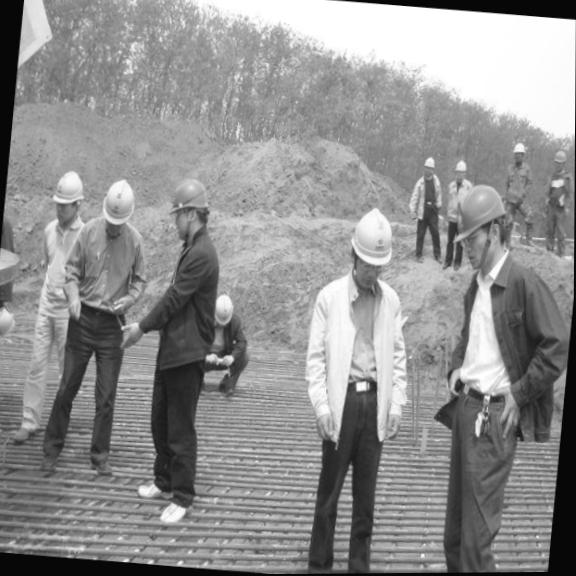no_safety_vest: (450, 255, 539, 427), (311, 279, 403, 440), (147, 235, 224, 380), (70, 225, 139, 308)
